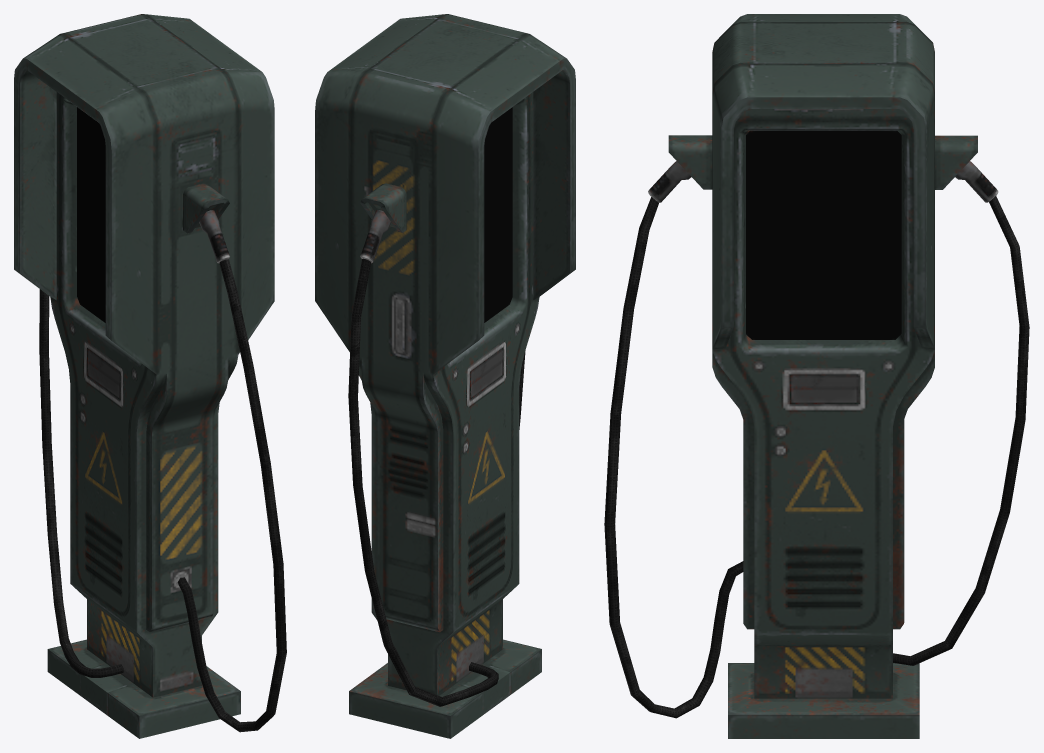
The model's file is CP_Electric_Charging_02.fbx.
3 renders of one model, left to right at view 1: azimuth 30°, elevation 25°; view 2: azimuth 150°, elevation 25°; view 3: azimuth 270°, elevation 25°, orthographic. The views are drawn at different scales.
Parts seen in each view (by area): view 1: CP_Electric_Charging_02_LOD0; view 2: CP_Electric_Charging_02_LOD0; view 3: CP_Electric_Charging_02_LOD0.
Boxes of the visible parts, x1,y1,x2,y2 form: CP_Electric_Charging_02_LOD0: [14, 14, 286, 738]; CP_Electric_Charging_02_LOD0: [315, 14, 575, 738]; CP_Electric_Charging_02_LOD0: [604, 14, 1029, 738].
Size of what is drawn, in the model's own units: 44.06 by 165 by 94.93.
